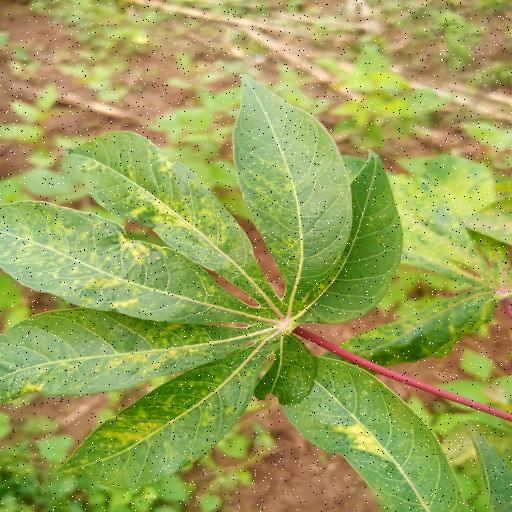Cassava_Mosaic: (0, 72, 409, 490)
